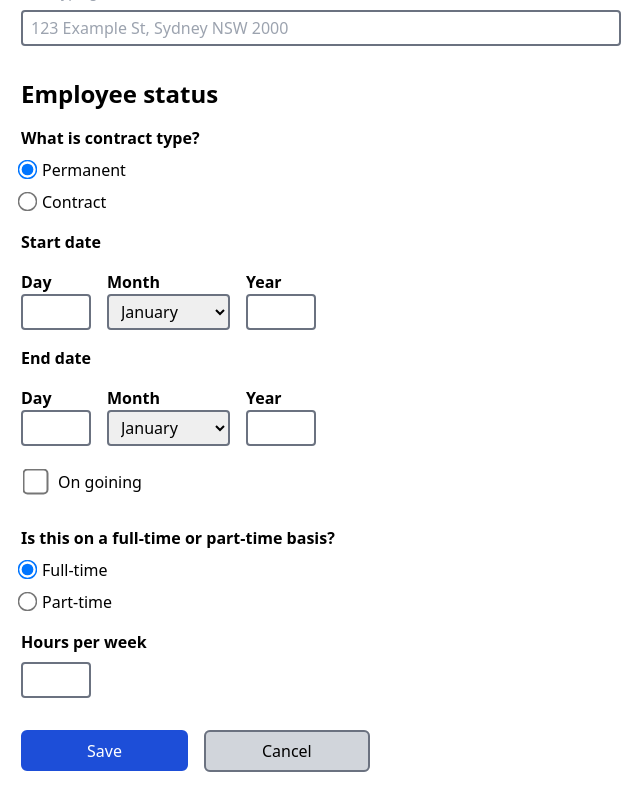
Test case: EmployeeAdd Component Tests › should display error when end year is passed and on goining is checked
(page scrolled)
Click the checkbox with test id "onGoing".
click(36, 482)  # box [22,468,48,494]
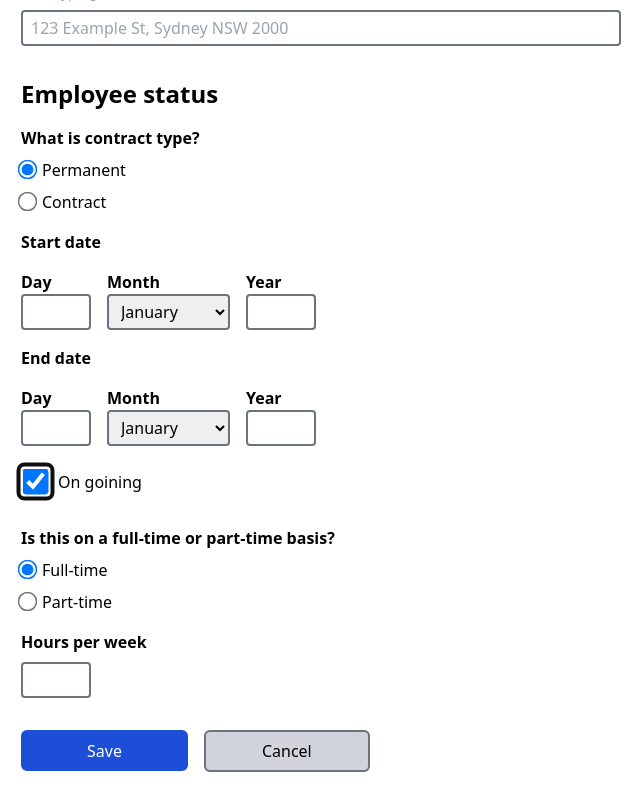
Type "2018" into the number field with test id "endDateYear".
click(281, 428); type("2018")  # box [246,410,316,446]
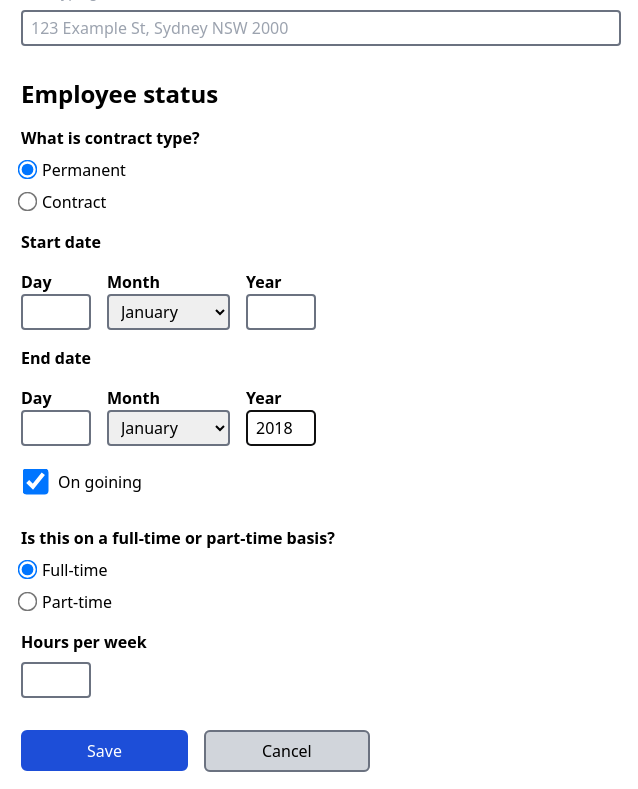
Click the button "Save".
click(104, 750)  # box [21,730,188,771]
(page scrolled)
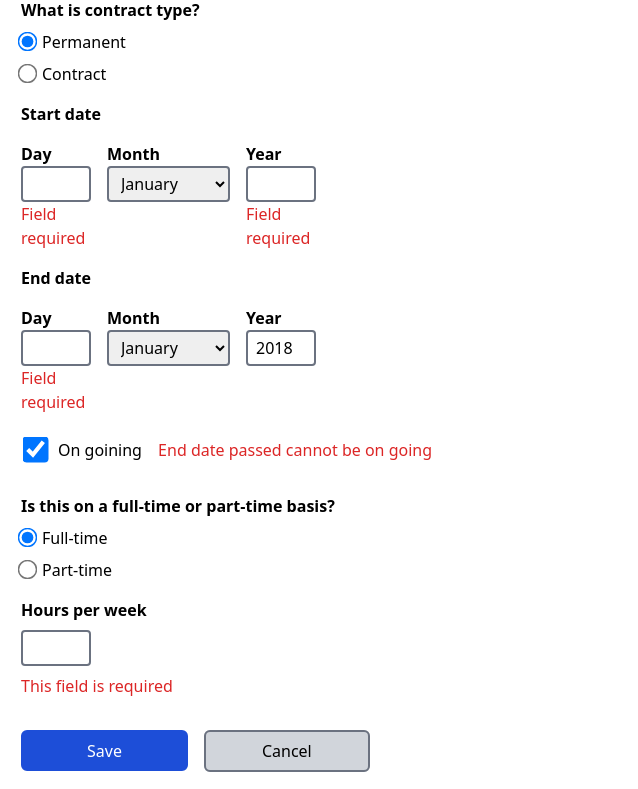
Now the text "End date passed cannot be on going" is shown, box [158,439,432,461]
